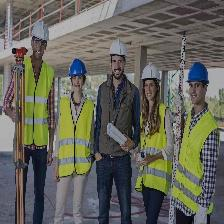Person: (16, 20, 54, 224), (99, 37, 132, 224), (179, 60, 213, 224), (137, 60, 169, 224), (61, 55, 91, 224)
helmet: (28, 19, 52, 46), (187, 63, 212, 87), (107, 38, 131, 61), (67, 57, 90, 80), (140, 62, 164, 84)
no-vest: (99, 79, 138, 165)
vest: (181, 109, 222, 216), (16, 60, 53, 147), (141, 103, 175, 194), (57, 95, 94, 178)
